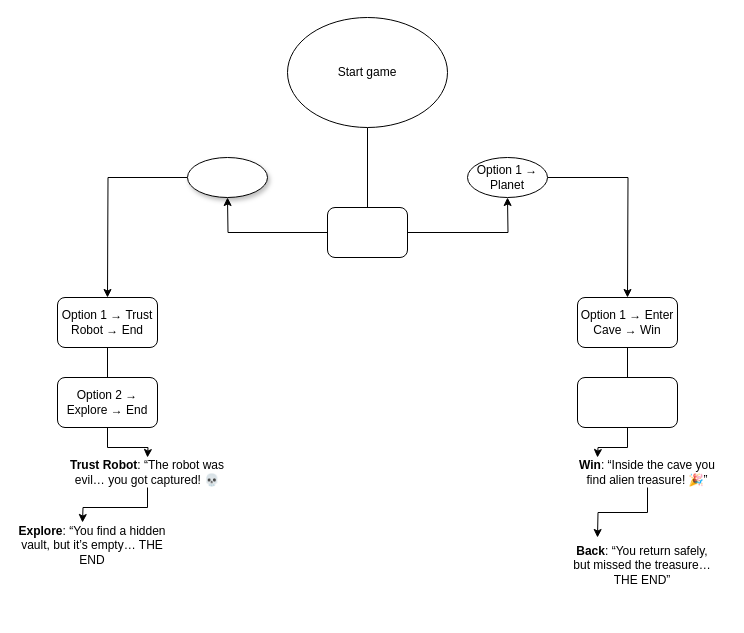
The diagram is 744 pixels wide and 633 high, and some of its shapes have lost their labels. Each missing label, with the centre of its shape:
Decision: [367,232]
Option 2 → Go Back → End: [627,402]
Option 2 → Station: [228,178]
